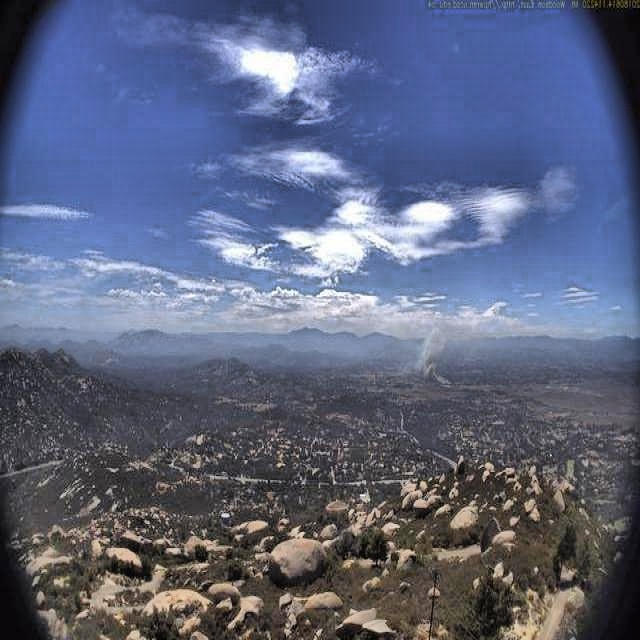smoke: (408, 313, 459, 395)
